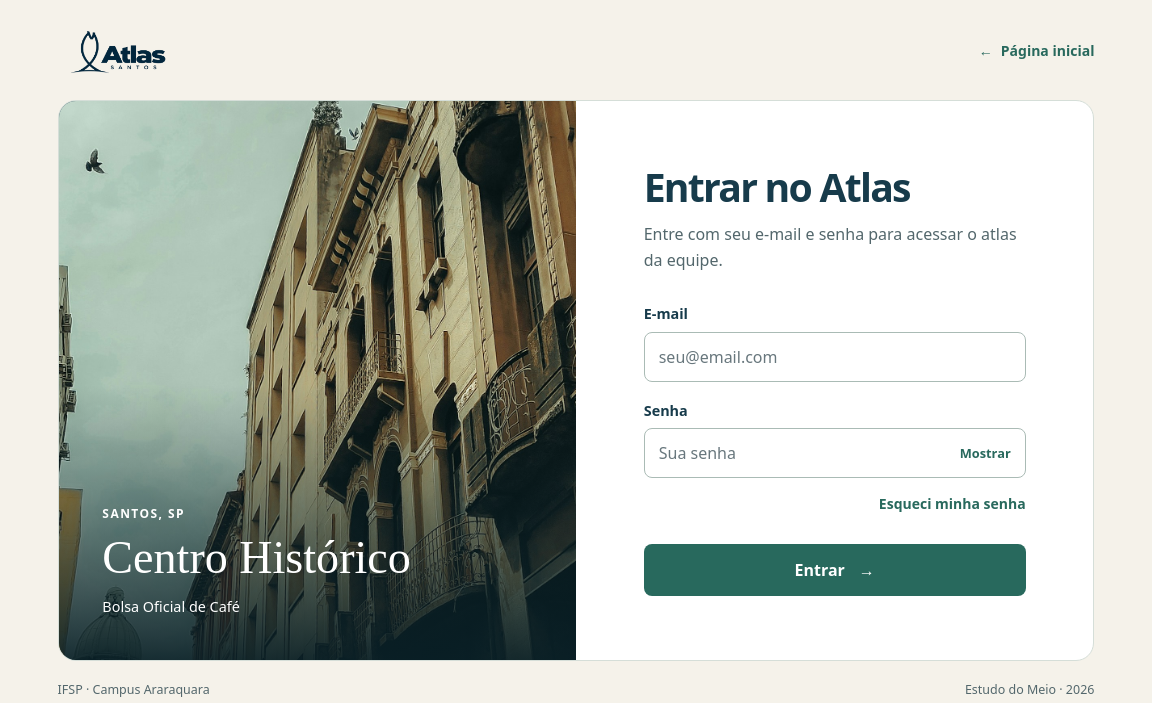
Test case: valida os campos, permite conferir a senha e informa a recusa da API
Click the button "Entrar →". click: (835, 570)
box: [644,544,1026,596]
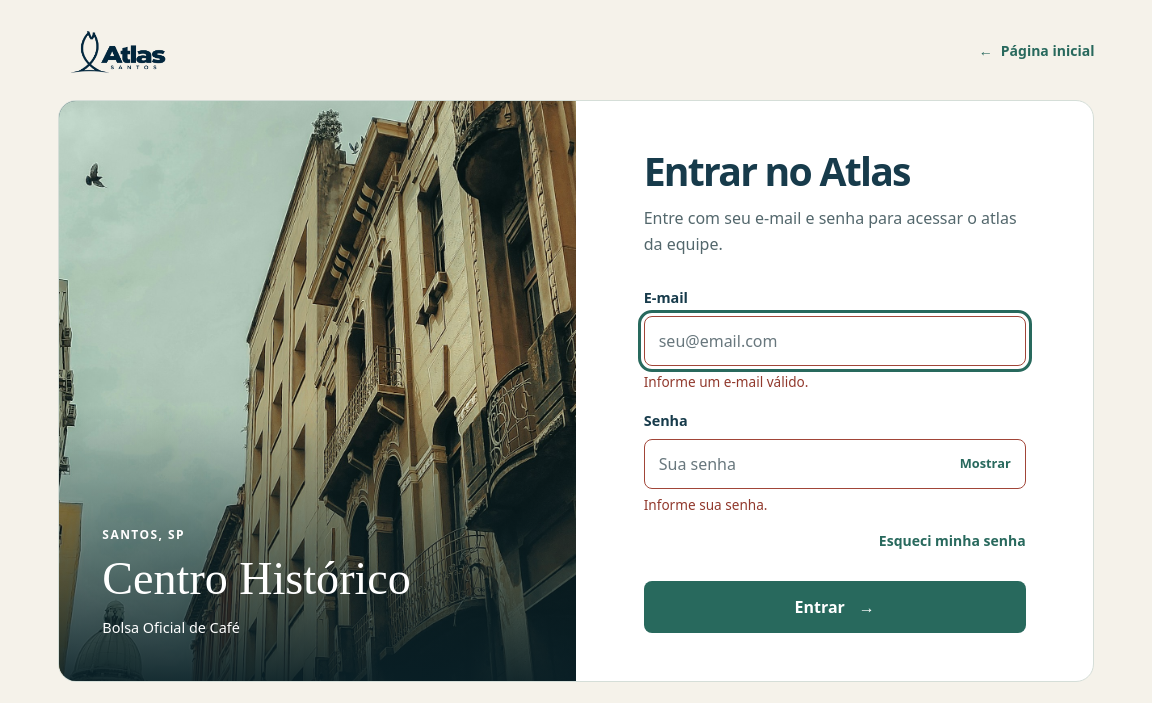
Expected: the text "Informe sua senha." is shown, [644,495,768,514]
Type "teste@example.org" into the field labelled "E-mail". click: (835, 341)
box: [644,316,1026,366]
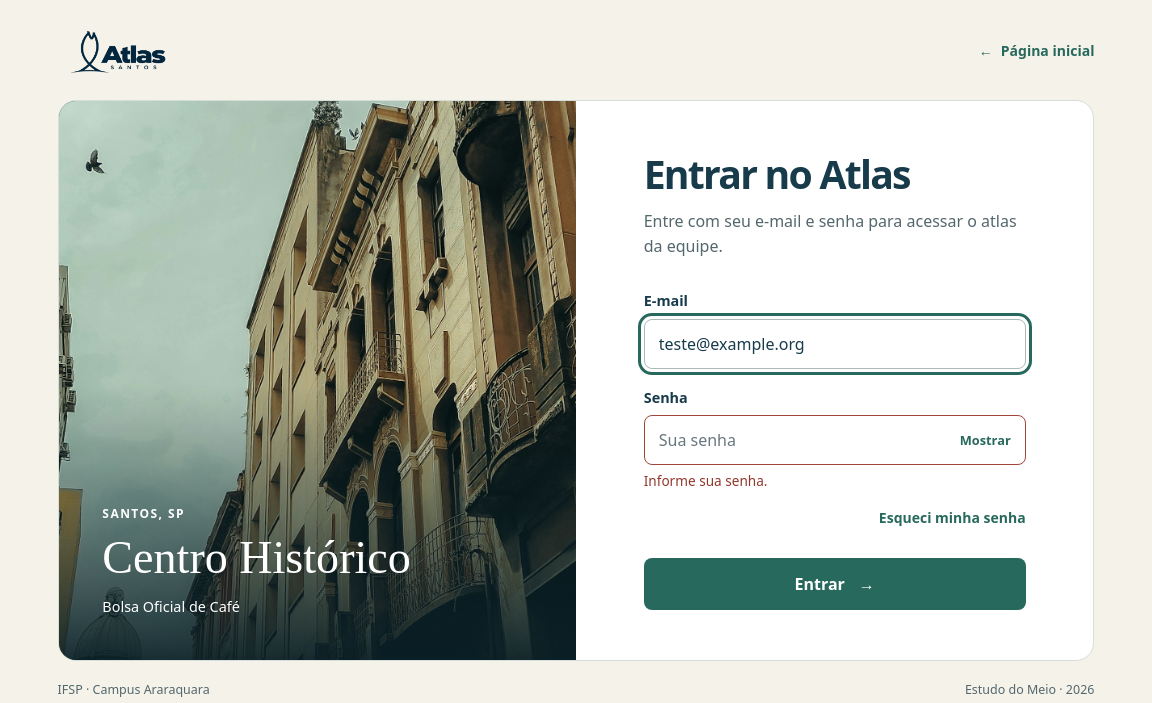
Type "exemplo" into the password field labelled "Senha". click: (835, 440)
box: [644,415,1026,465]
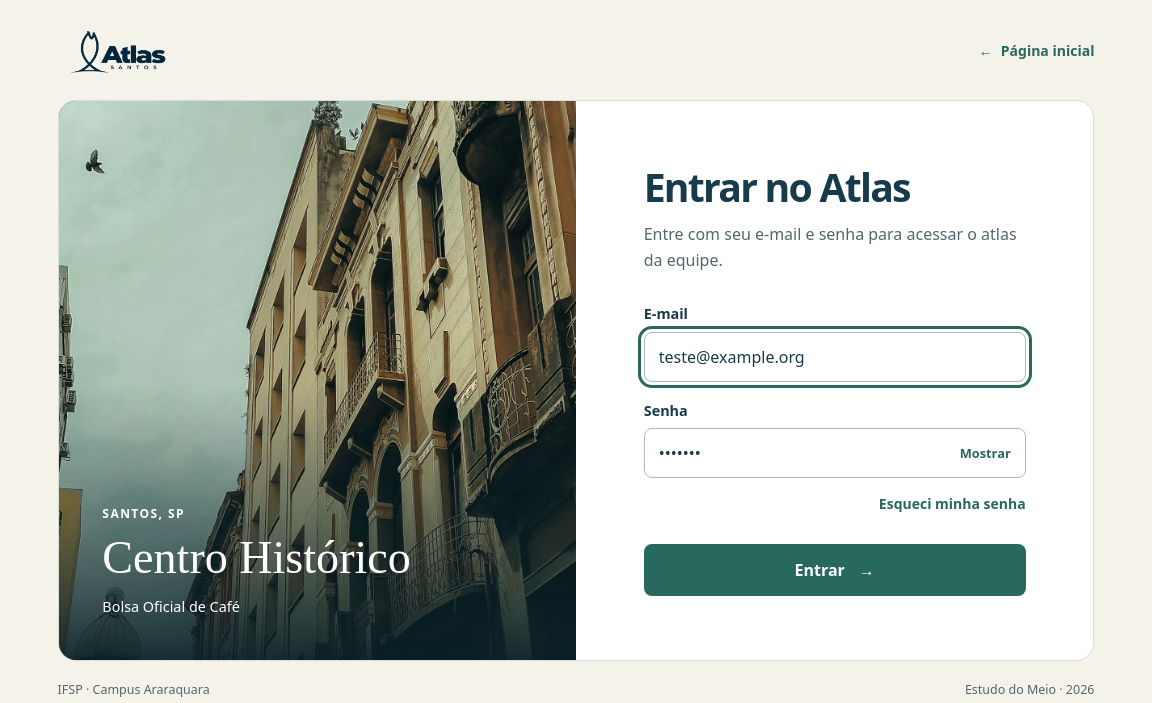
Click the button with aria-label "Mostrar senha". click: (985, 453)
box: [950,432,1021,474]
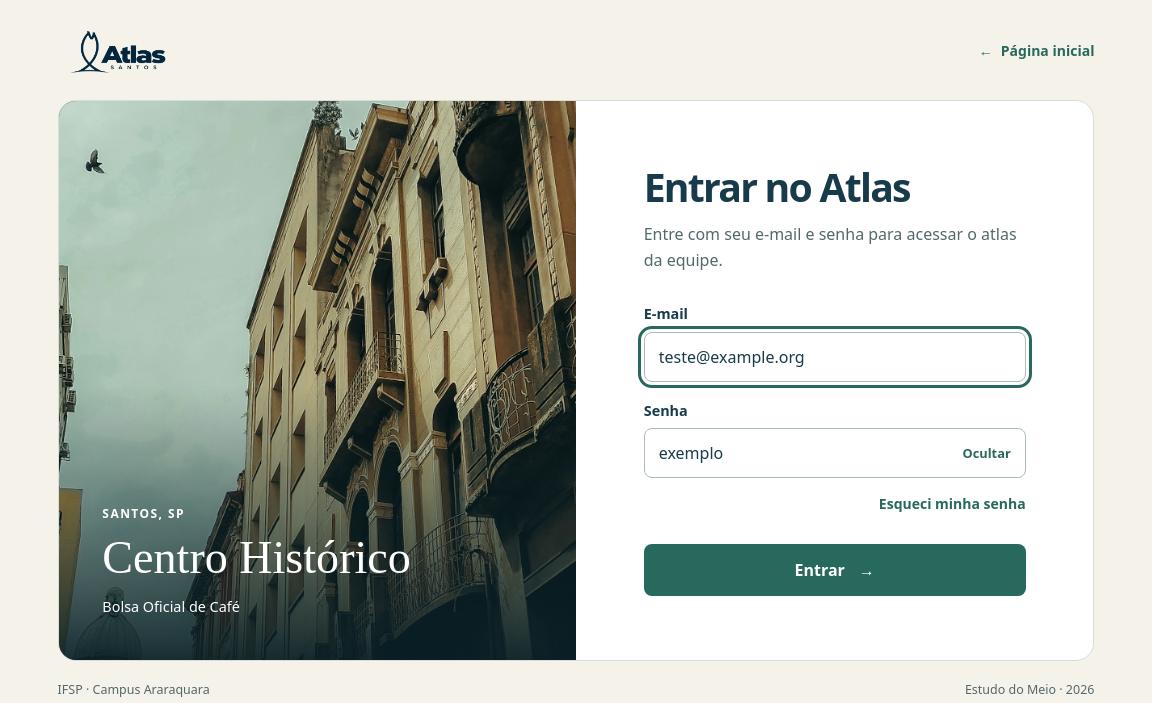
Expected: the field labelled "Senha" shows its text, [644,428,1026,478]
Click the button "Entrar →". click: (835, 570)
box: [644,544,1026,596]
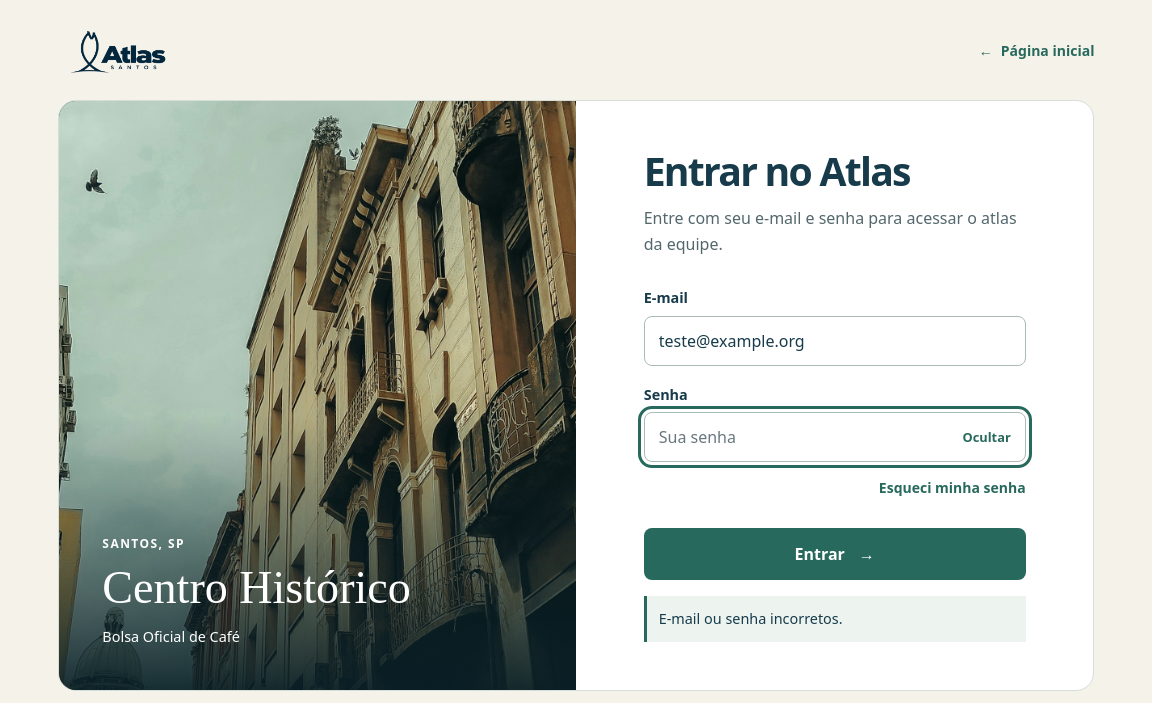
Expected: the text "E-mail ou senha incorretos." is shown, [644,596,1026,642]
Expected: the field labelled "Senha" is empty, [644,412,1026,462]
